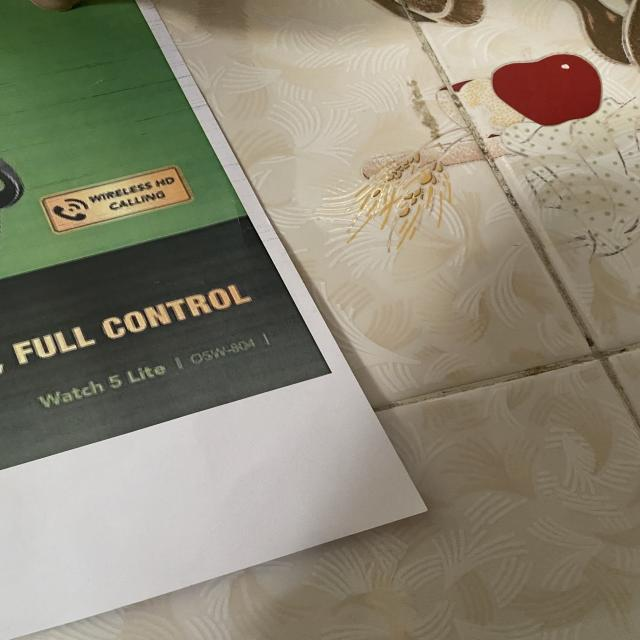Watch 5 Lite OSW-804: (30, 320, 281, 415)
